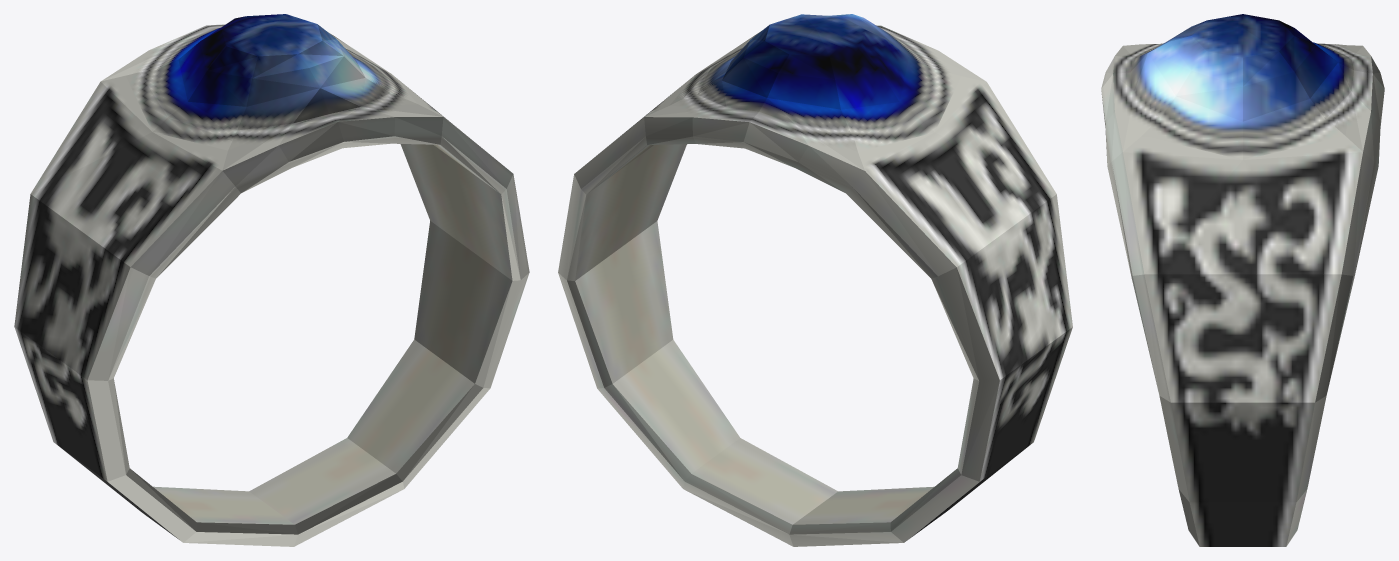
File: reborn2.ico.obj
3 renders of one model, left to right at view 1: azimuth 30°, elevation 25°; view 2: azimuth 150°, elevation 25°; view 3: azimuth 270°, elevation 25°, orthographic.
Bounding box in the file's own units: 4.42 × 4.81 × 2.49.
Materials: 1 (1 with a texture image).
